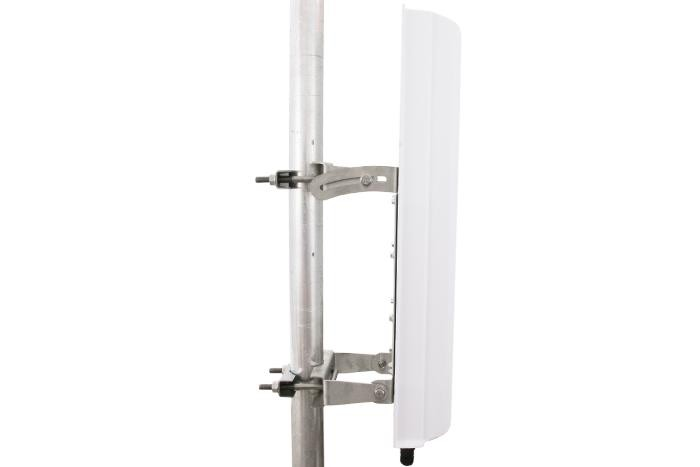sa: (353, 1, 469, 454)
